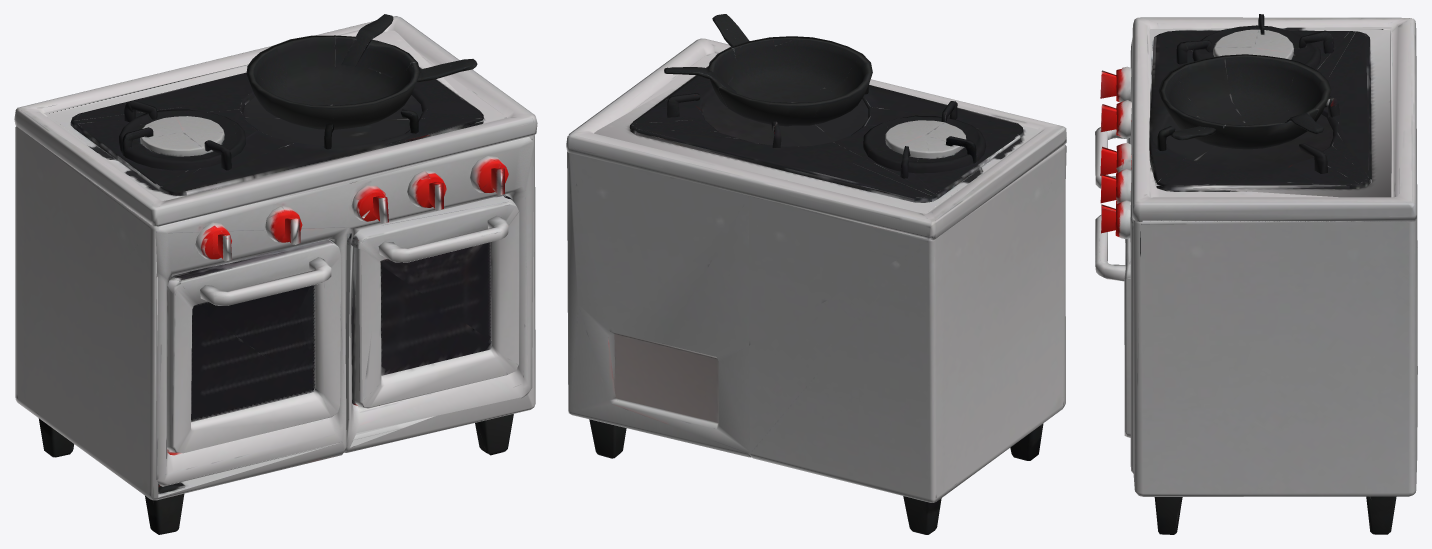
File: prop_kitchen_stove.glb
3 renders of one model, left to right at view 1: azimuth 30°, elevation 25°; view 2: azimuth 150°, elevation 25°; view 3: azimuth 270°, elevation 25°, orthographic. The views are drawn at different scales.
Bounding box in the file's own units: 1 × 0.9685 × 0.7273.
Materials: 1 (1 with a texture image).
